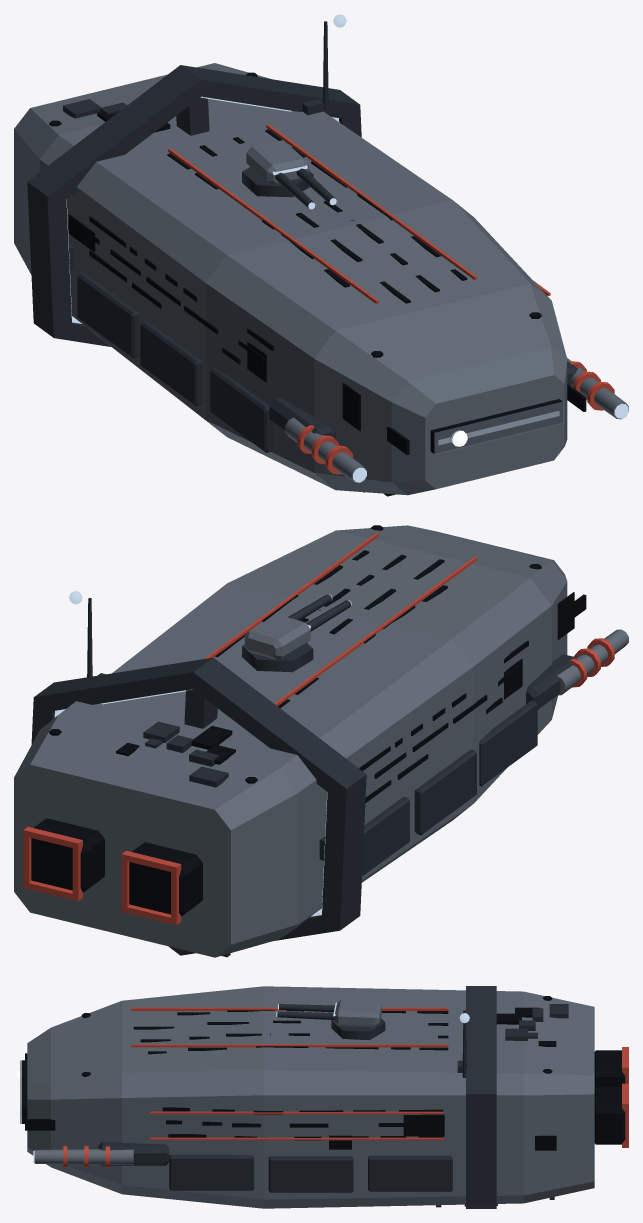
The model's file is paragraf-wykonawcy-coalition-27-lod0.glb.
3 renders of one model, top to bottom at view 1: azimuth 30°, elevation 25°; view 2: azimuth 150°, elevation 25°; view 3: azimuth 270°, elevation 25°, orthographic. The views are drawn at different scales.
Bounding box in the file's own units: 9.8 × 9.34 × 21.48.
